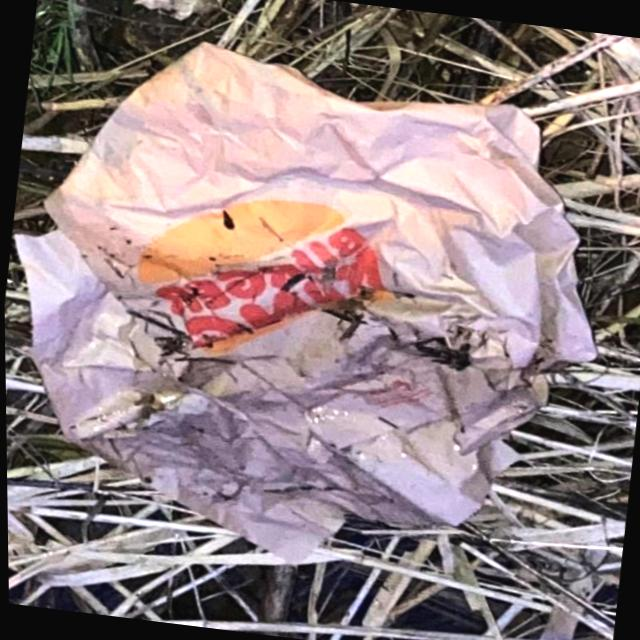Paper: (0, 19, 631, 600)
